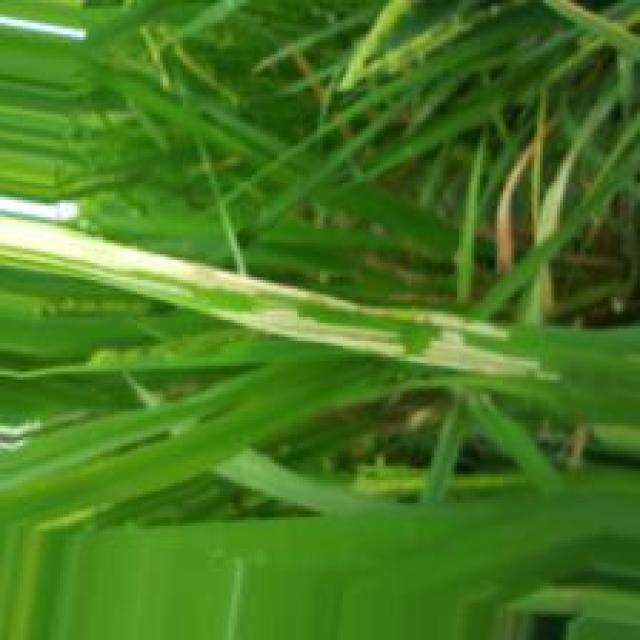Rice_Hispa: (0, 212, 512, 339), (213, 309, 551, 386)
